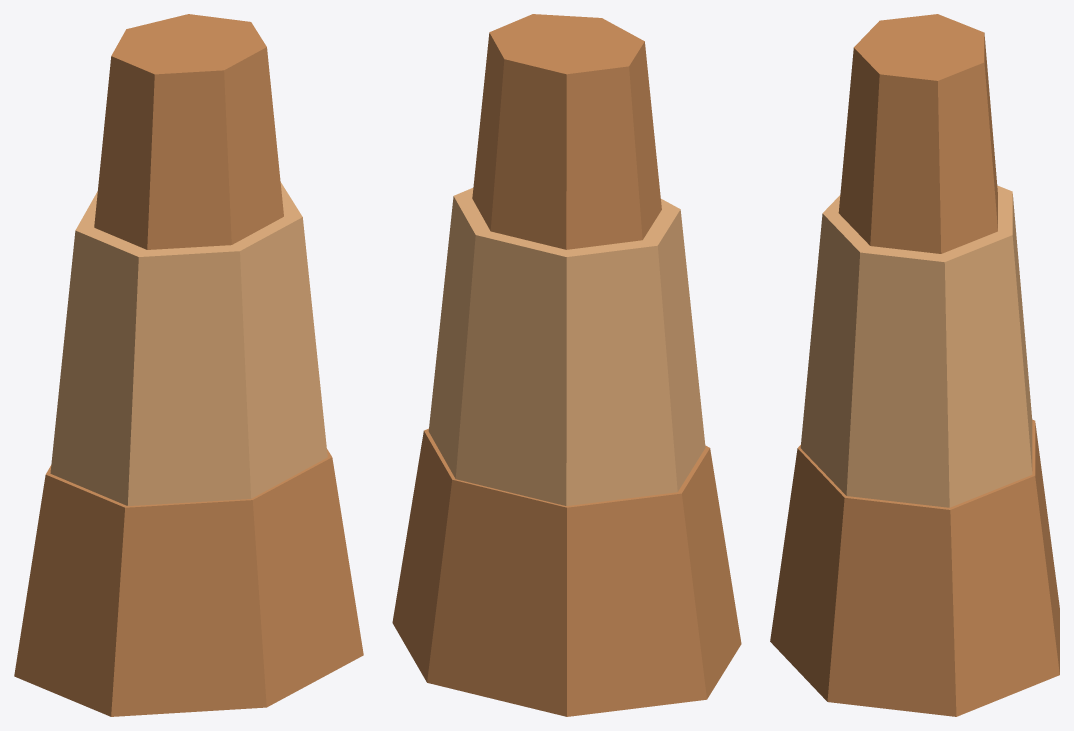
Rendered from sandstone_spire.glb.
3 renders of one model, left to right at view 1: azimuth 30°, elevation 25°; view 2: azimuth 150°, elevation 25°; view 3: azimuth 270°, elevation 25°, orthographic.
Parts seen in each view (by area): view 1: sandstone_spire__static; view 2: sandstone_spire__static; view 3: sandstone_spire__static.
Part boxes in pixels (x1,y1,x2,y2): sandstone_spire__static: (14,14,363,716); sandstone_spire__static: (392,14,741,716); sandstone_spire__static: (770,14,1059,716).
Size of the model in its own units: 2.34 by 4.3 by 1.9.
